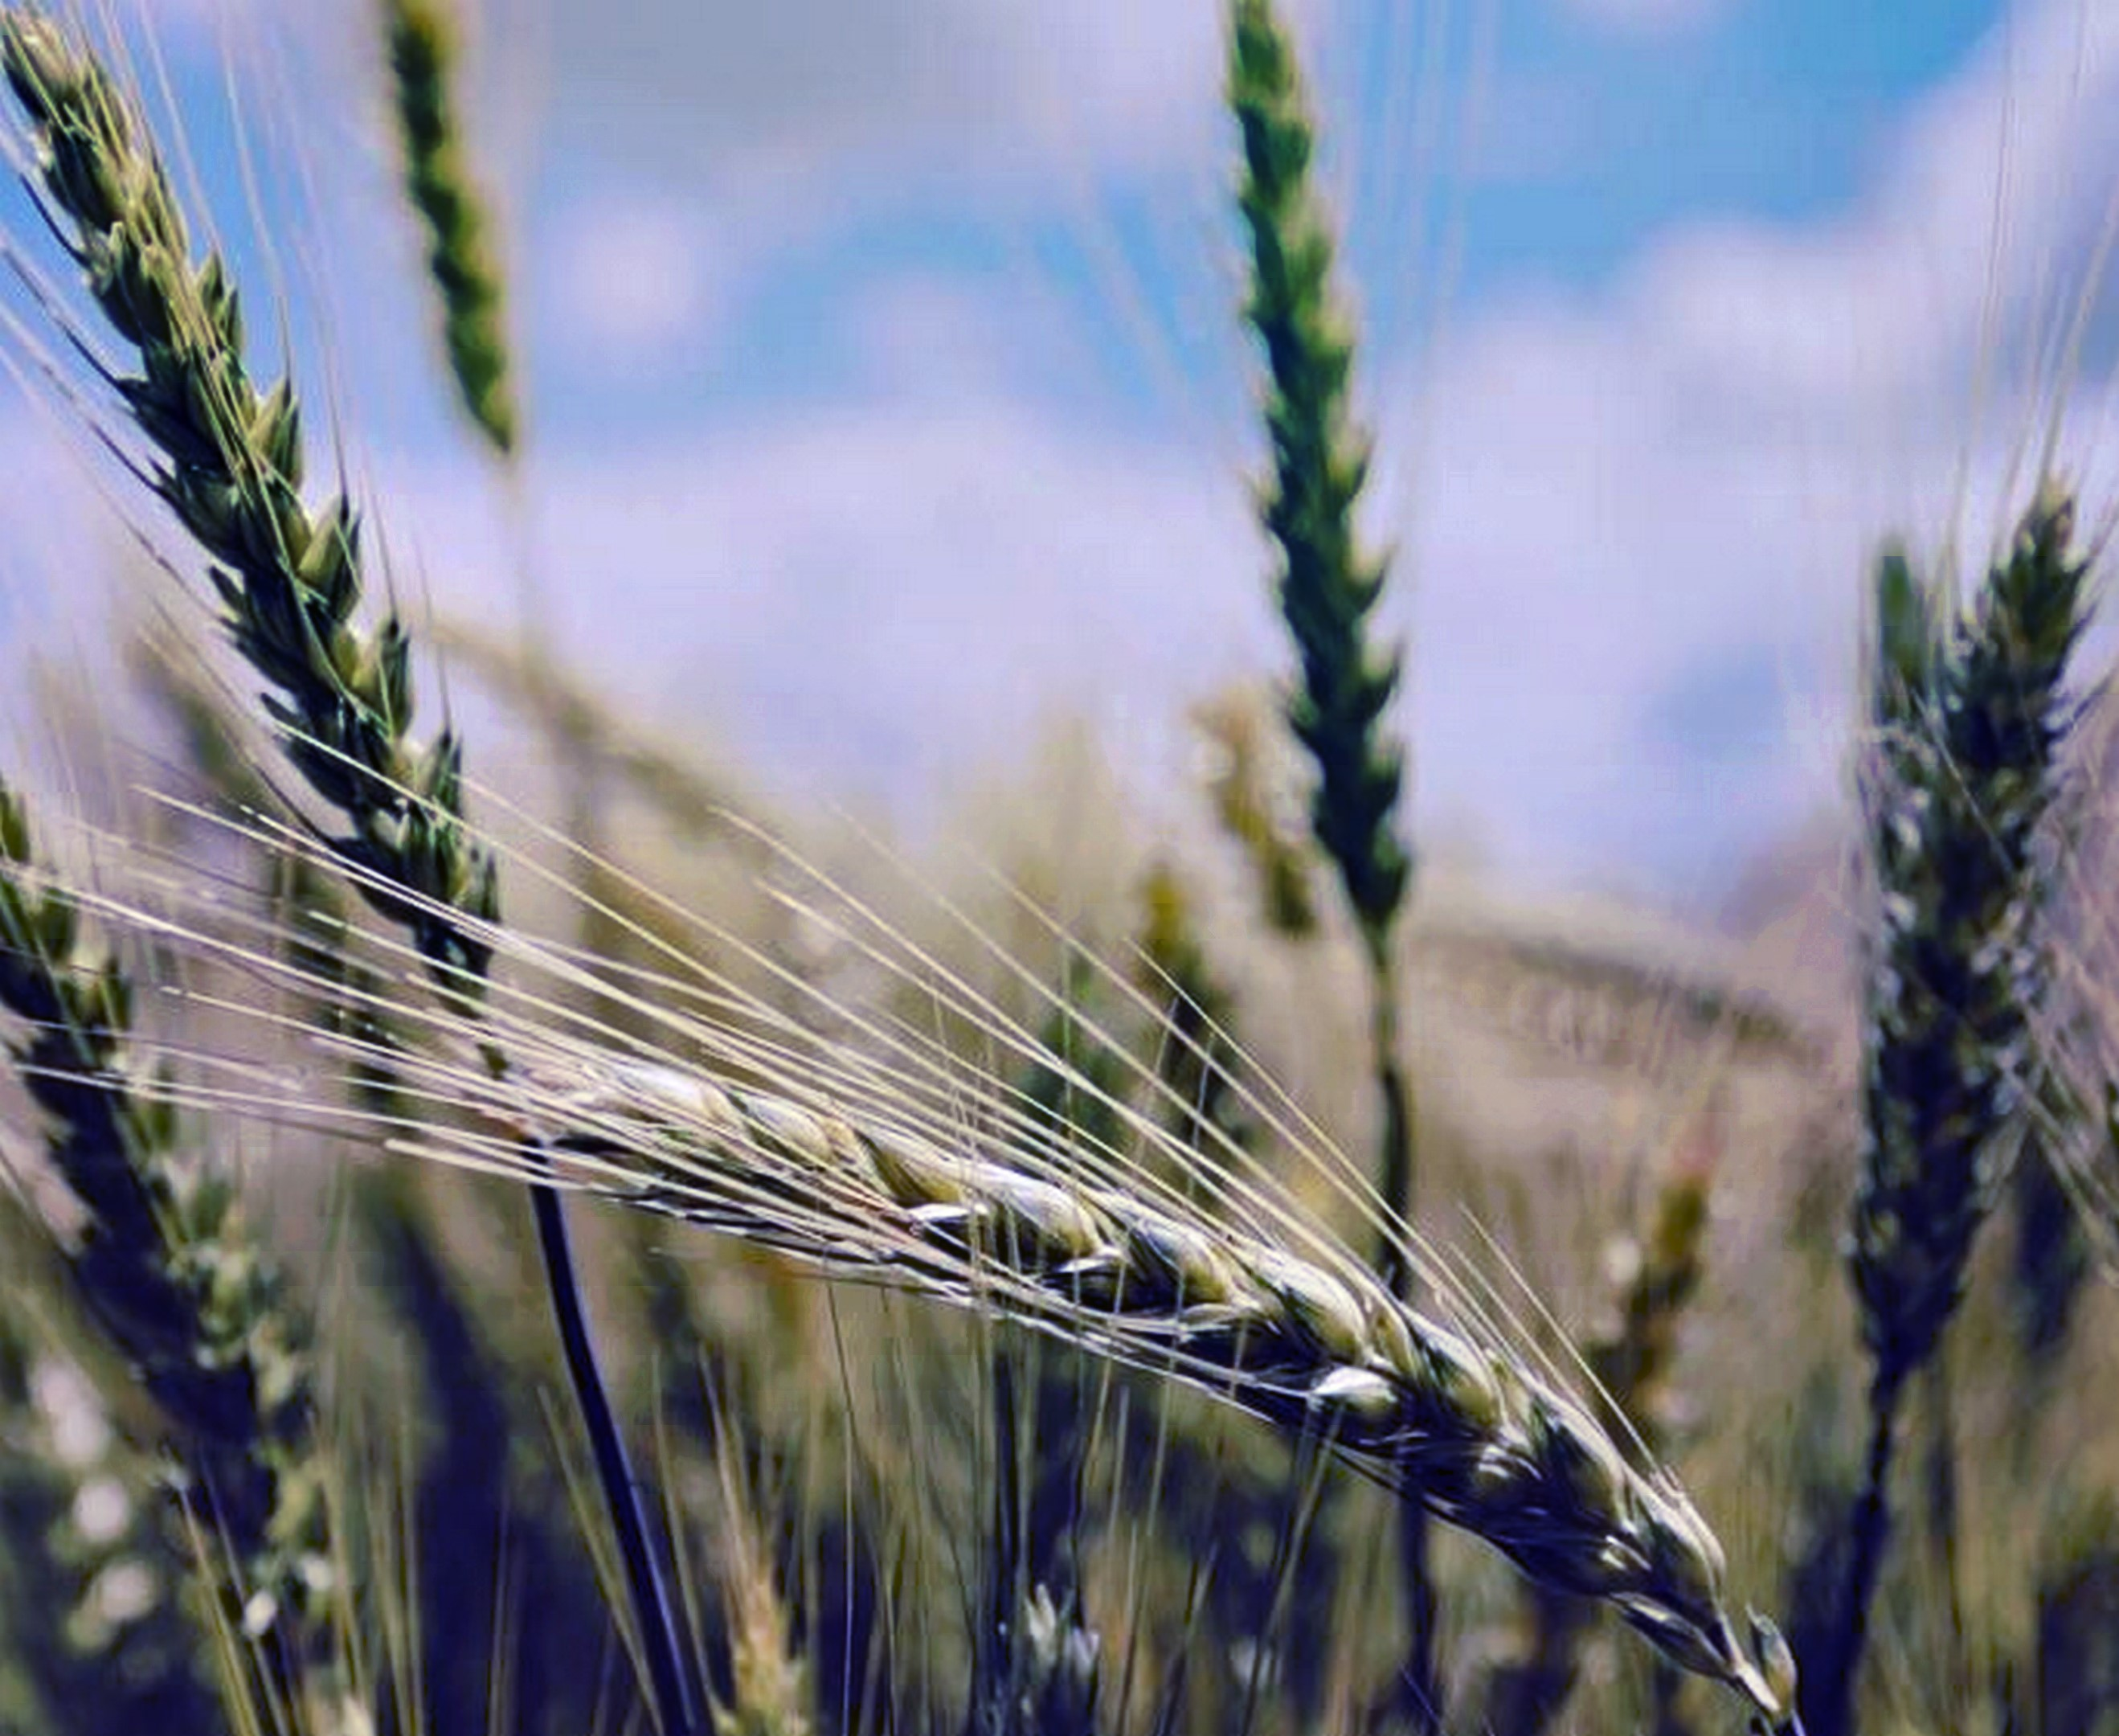Healthy Wheat: (23, 18, 516, 984)
